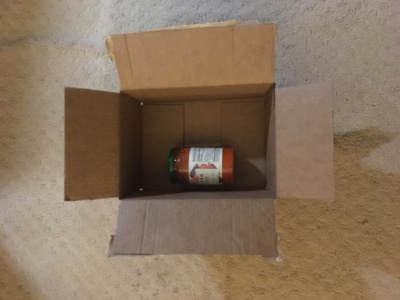innerbox: (118, 93, 275, 197)
outerbox: (66, 32, 335, 257)
product: (167, 147, 237, 188)
